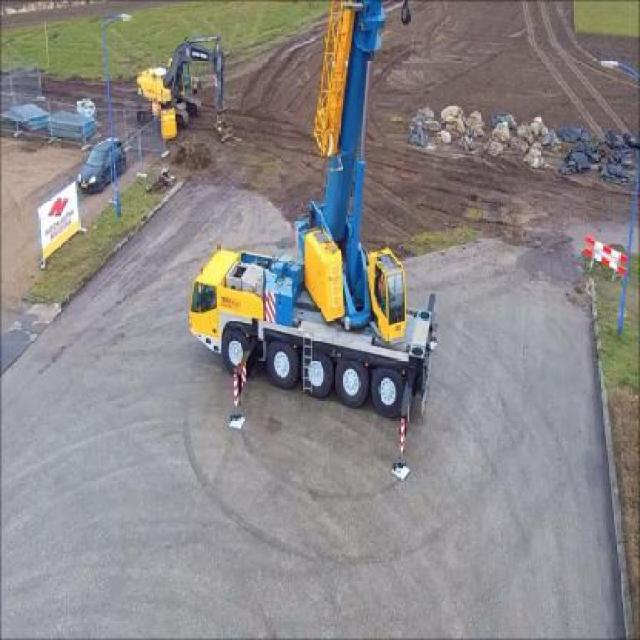Excavator: (134, 35, 228, 143)
Mobile Crane: (186, 0, 437, 485)
